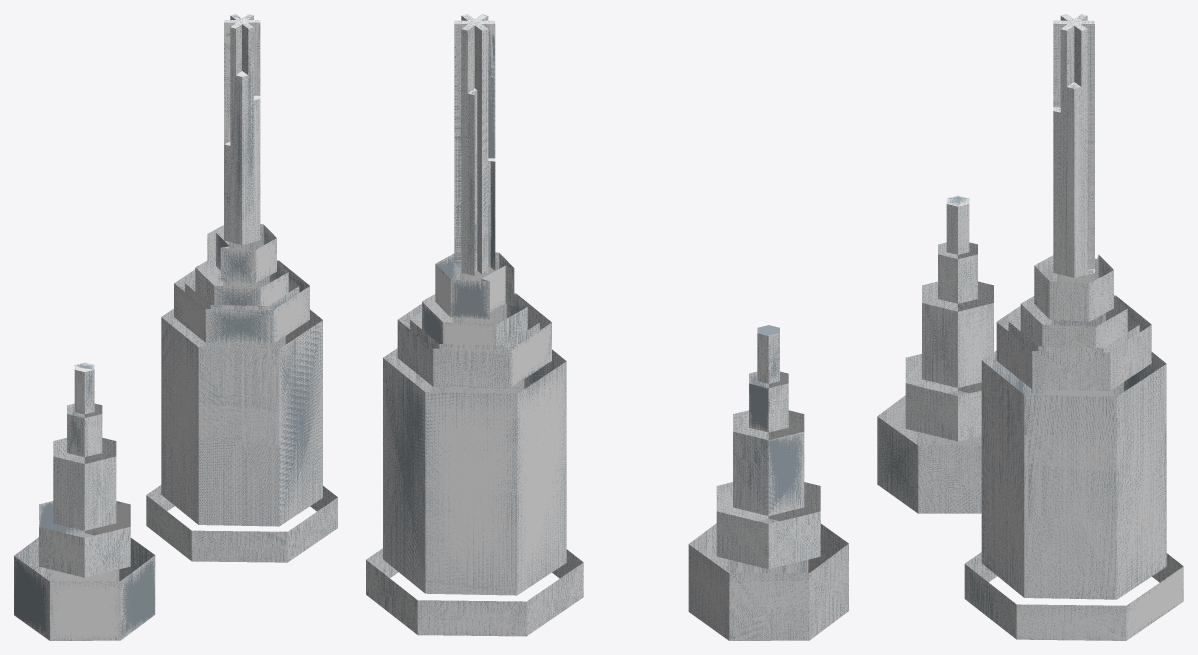
Rendered from crystals2.dae.
3 renders of one model, left to right at view 1: azimuth 30°, elevation 25°; view 2: azimuth 150°, elevation 25°; view 3: azimuth 270°, elevation 25°, orthographic. The views are drawn at different scales.
Parts seen in each view (by area): view 1: SketchUp (×12); view 2: SketchUp (×12); view 3: SketchUp (×12).
Boxes of the visible parts, x1,y1,x2,y2 form: SketchUp (×12): (14,14,337,640); SketchUp (×12): (366,14,848,640); SketchUp (×12): (877,14,1183,640).
Bounding box in the file's own units: 398 × 276 × 575.
